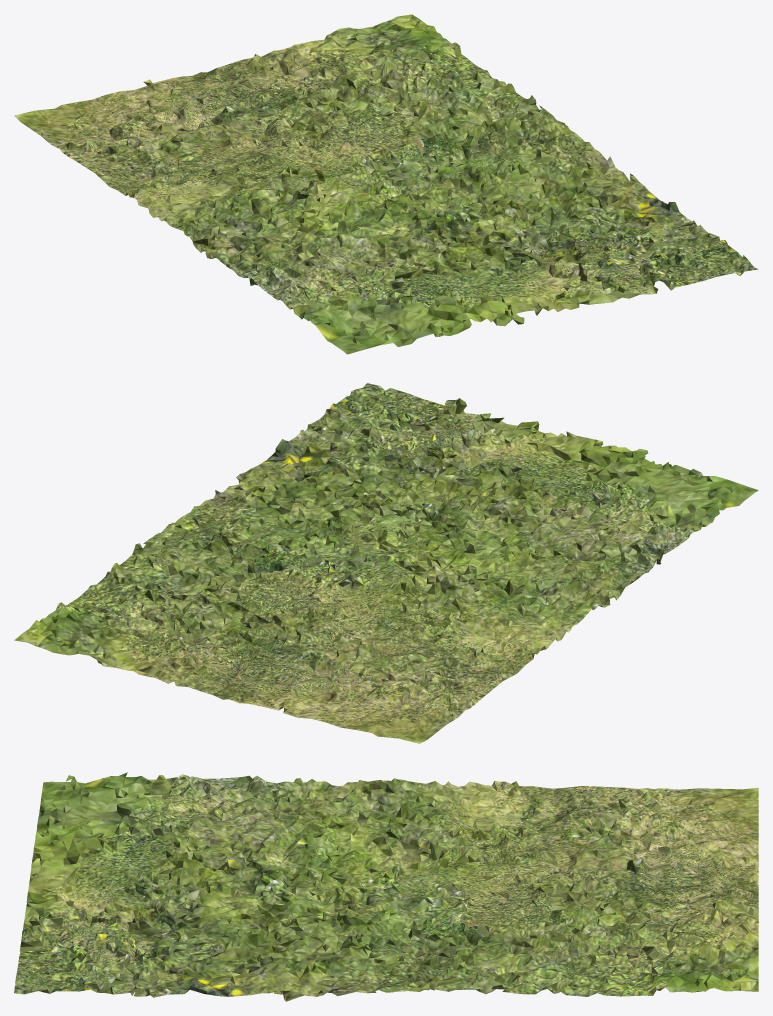
File: grass_low_poly_3d_scan_optimized.glb
3 renders of one model, top to bottom at view 1: azimuth 30°, elevation 25°; view 2: azimuth 150°, elevation 25°; view 3: azimuth 270°, elevation 25°, orthographic. The views are drawn at different scales.
Visible parts, largest first — view 1: Mesh_0_Material_0_0; view 2: Mesh_0_Material_0_0; view 3: Mesh_0_Material_0_0.
Boxes of the visible parts, box(x1,y1,x2,y2) form: Mesh_0_Material_0_0: box(14, 14, 758, 354); Mesh_0_Material_0_0: box(14, 383, 758, 743); Mesh_0_Material_0_0: box(14, 772, 758, 1001).
Size of the model in its own units: 2.48 by 0.1877 by 3.73.
1 material, 1 textured.
